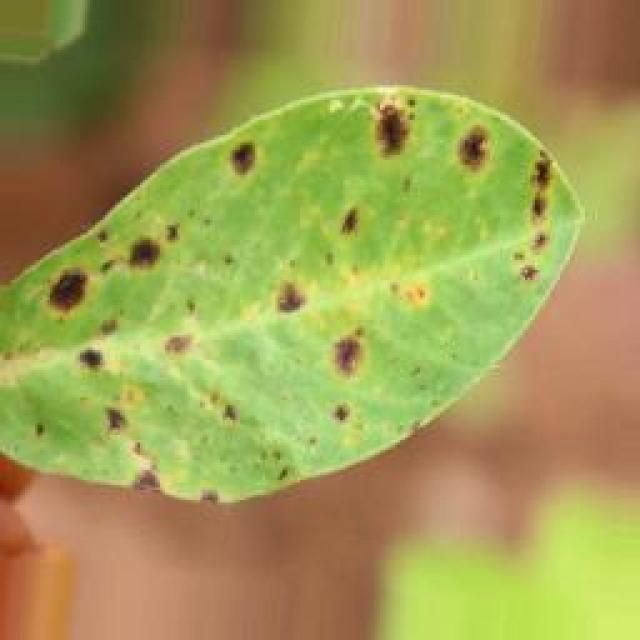Yellowish: (6, 51, 573, 534)
